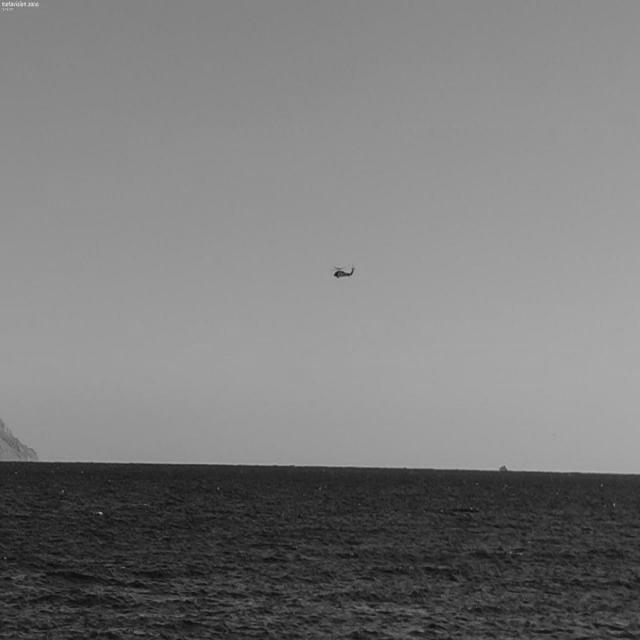helikopter: (320, 252, 370, 292)
